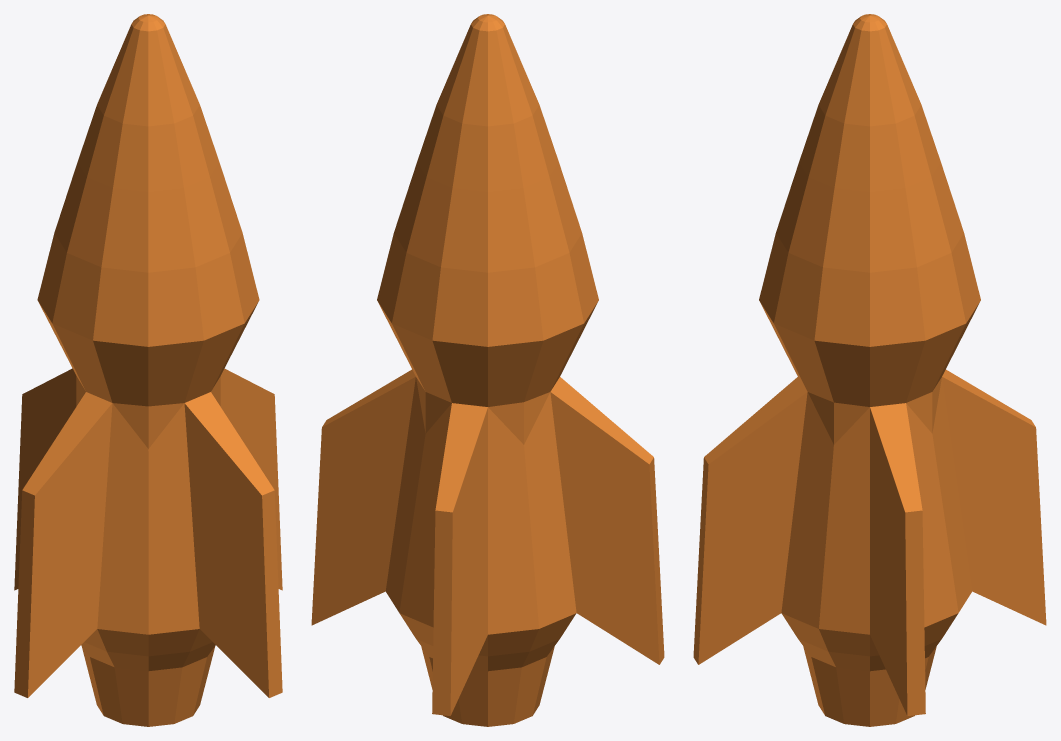
The model's file is Missile 1.fbx.
3 renders of one model, left to right at view 1: azimuth 30°, elevation 25°; view 2: azimuth 150°, elevation 25°; view 3: azimuth 270°, elevation 25°, orthographic.
Visible parts, largest first — view 1: Cube; view 2: Cube; view 3: Cube.
Part boxes in pixels (<box>): Cube: <box>14,14,282,726</box>; Cube: <box>311,14,664,726</box>; Cube: <box>693,14,1046,726</box>.
Bounding box in the file's own units: 256 × 552 × 256.
